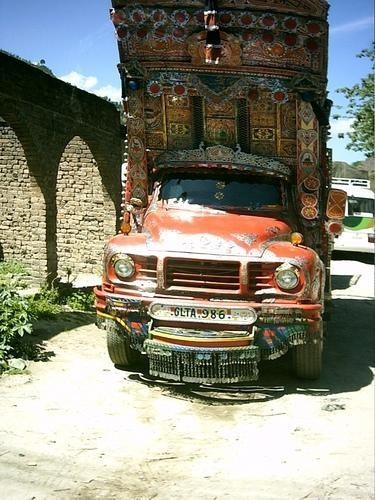truck: (96, 3, 328, 383)
